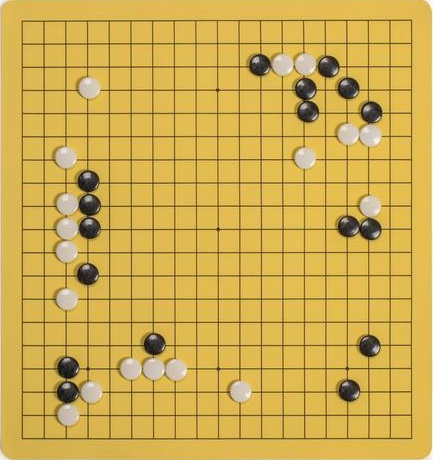black: (53, 358, 75, 380), (75, 218, 97, 240), (75, 264, 97, 286), (75, 194, 97, 216), (292, 101, 314, 123), (357, 334, 379, 356), (294, 80, 312, 98), (337, 383, 355, 401), (56, 384, 72, 400), (143, 337, 159, 353), (360, 221, 376, 237), (360, 104, 376, 120), (252, 58, 266, 72), (339, 82, 353, 96), (341, 224, 351, 234)
white: (49, 214, 79, 244), (49, 400, 79, 430), (354, 121, 382, 149), (74, 77, 98, 101), (291, 147, 315, 171), (53, 148, 75, 170), (140, 358, 162, 380), (227, 381, 249, 403), (292, 54, 314, 76), (335, 124, 357, 146), (55, 243, 73, 261), (55, 290, 73, 308), (120, 360, 138, 378), (164, 360, 182, 378), (359, 196, 377, 214), (56, 197, 72, 213), (78, 384, 94, 400), (273, 57, 289, 73)
